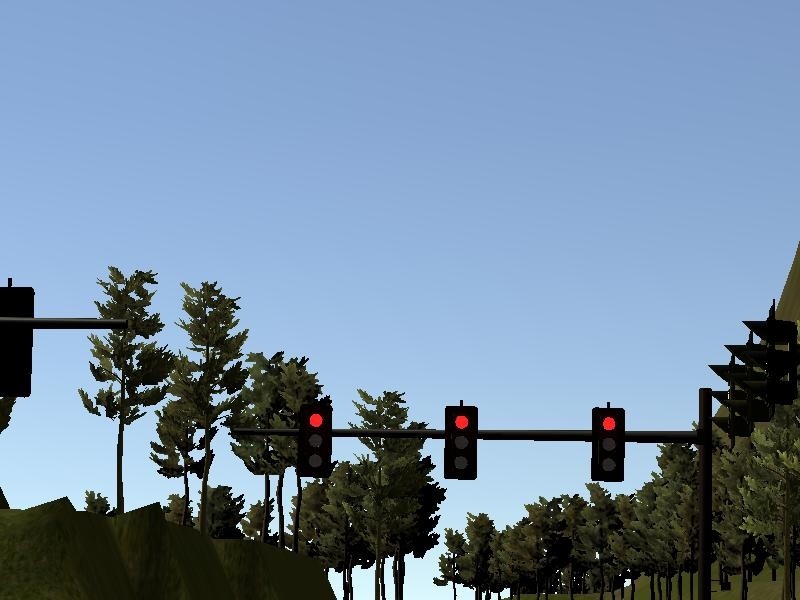traffic_light_red: (273, 400, 694, 482)
